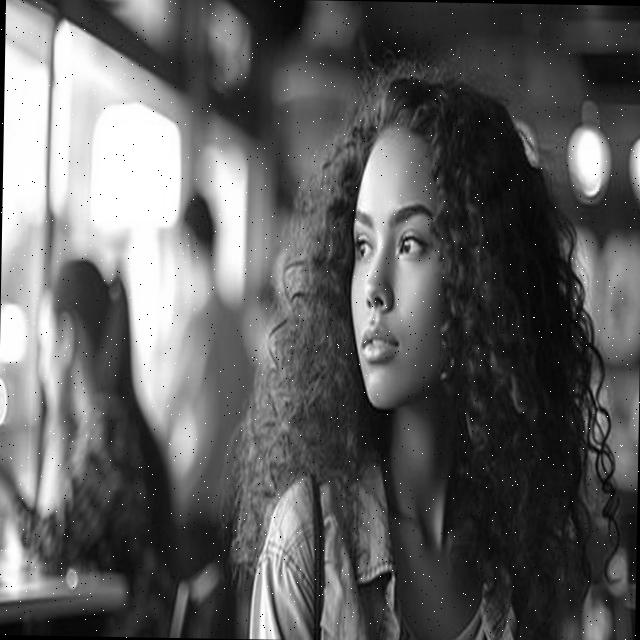Neutral: (349, 132, 448, 410)
